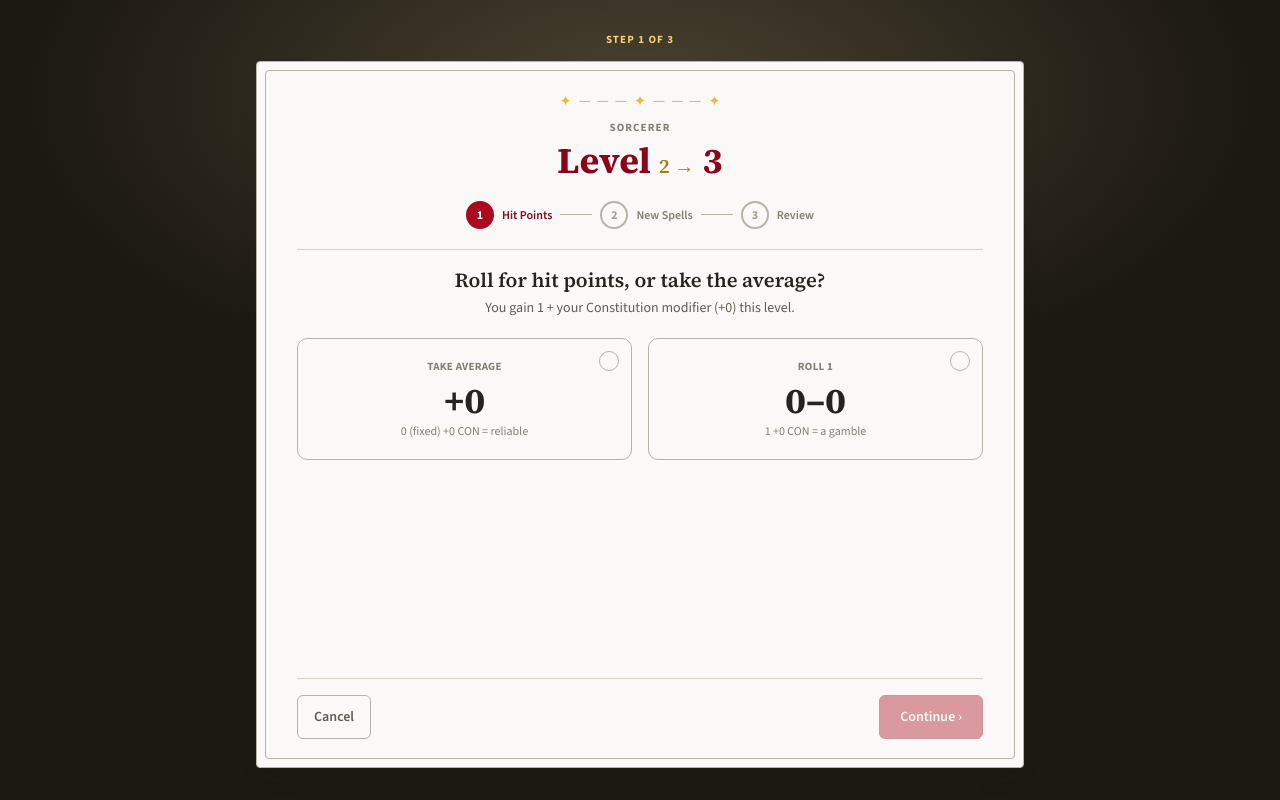
Scenario: NewSpellsStep in the ceremony › a swap-only level (count 0, canSwap) lets Continue through with no picks (#1101)
expect the text "Step 1 of 3" is shown: met, box [606,32,674,47]
Click the button "Take average +0 0 (fixed) +0 CON = reliable" at (464, 399), box [297,338,632,460]
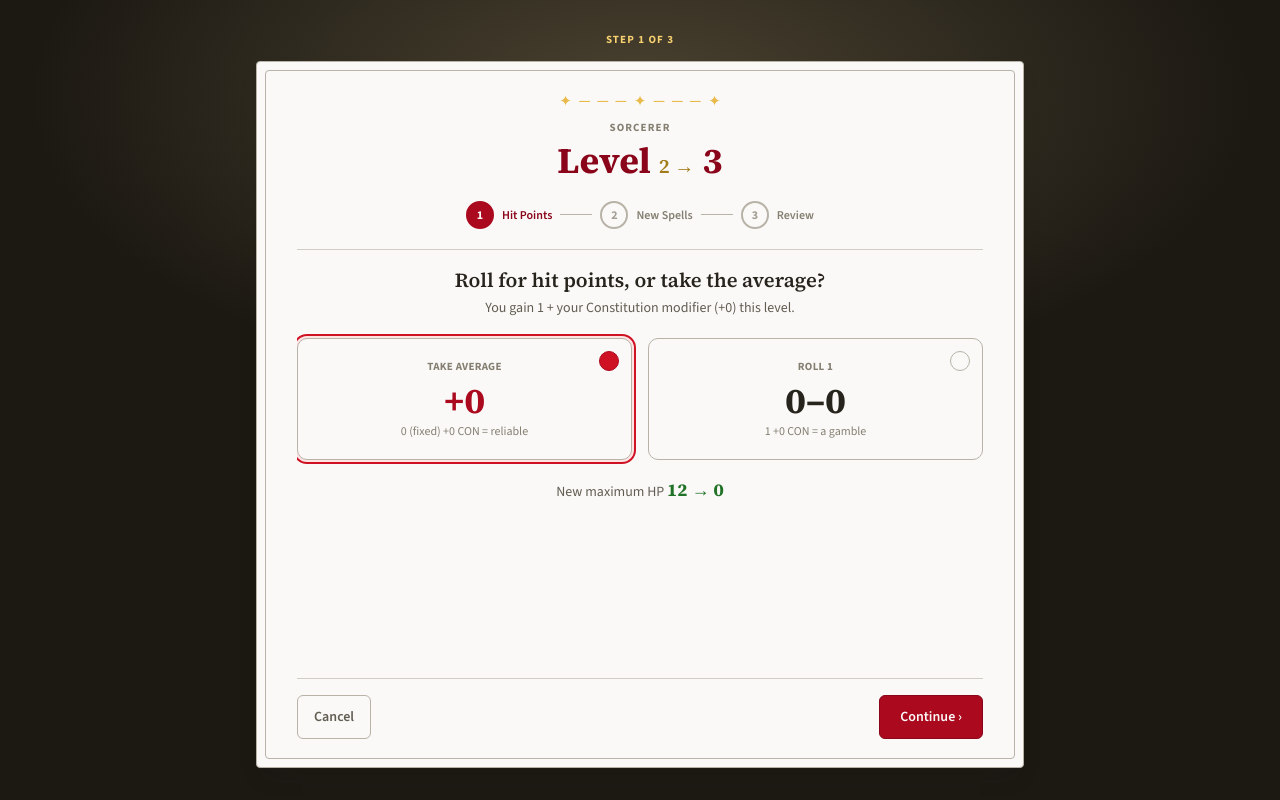
Click the button "Continue ›" at (931, 717), box [879,695,983,739]
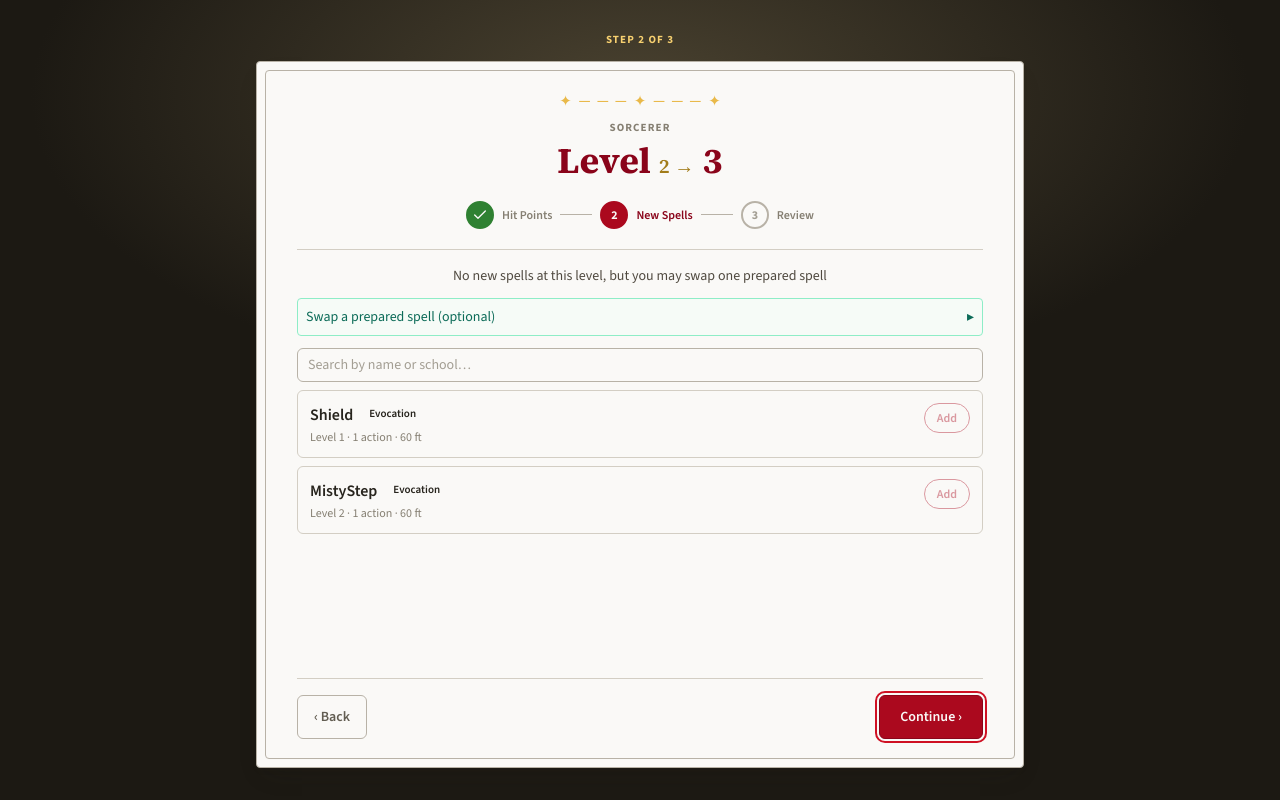
expect the button "Continue ›" is enabled: met, box [879,695,983,739]
expect the text "No new spells at this level, but you may swap one prepared spell" is shown: met, box [453,266,827,284]
